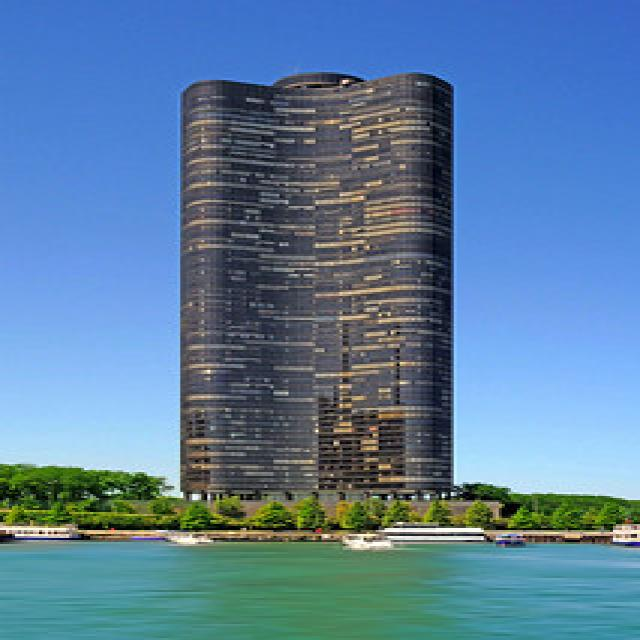building: (168, 67, 460, 505)
